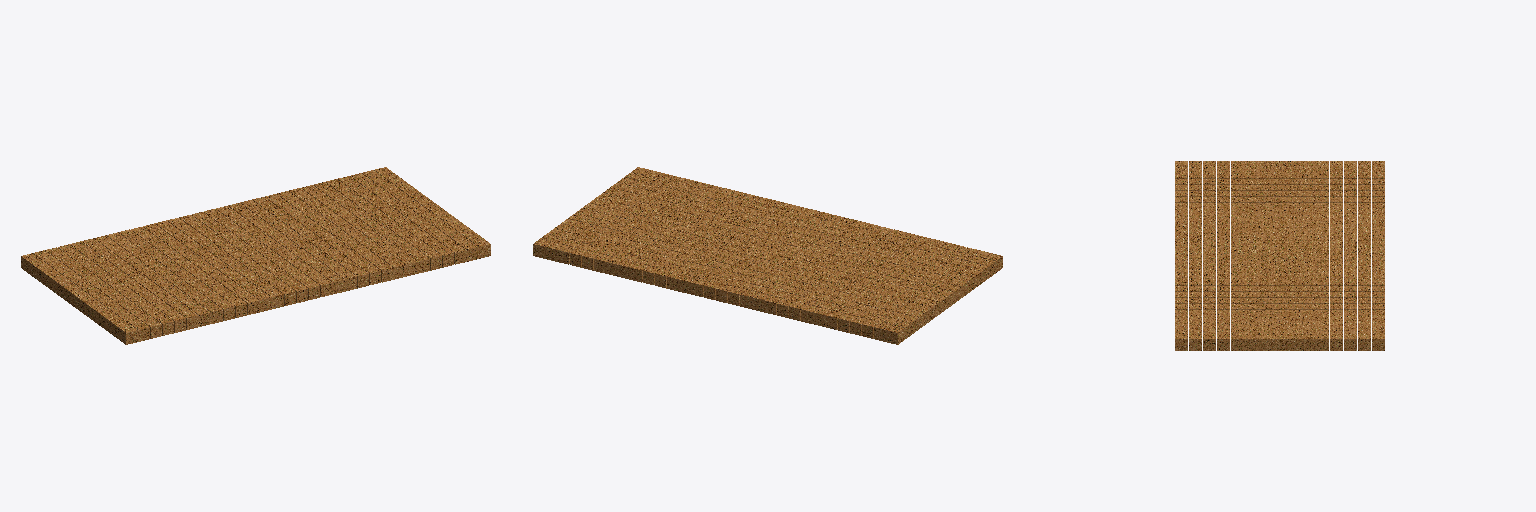
3 views of the same model, side by side, from view 1: azimuth 30°, elevation 25°; view 2: azimuth 150°, elevation 25°; view 3: azimuth 270°, elevation 25° (orthographic).
Visible parts, largest first — view 1: Cube; view 2: Cube; view 3: Cube.
Boxes of the visible parts, x1,y1,x2,y2 form: Cube: [21, 167, 490, 344]; Cube: [533, 167, 1002, 344]; Cube: [1175, 161, 1384, 350].
Bounding box in the file's own units: 31.45 × 1 × 15.7.
Materials: 1 (1 with a texture image).